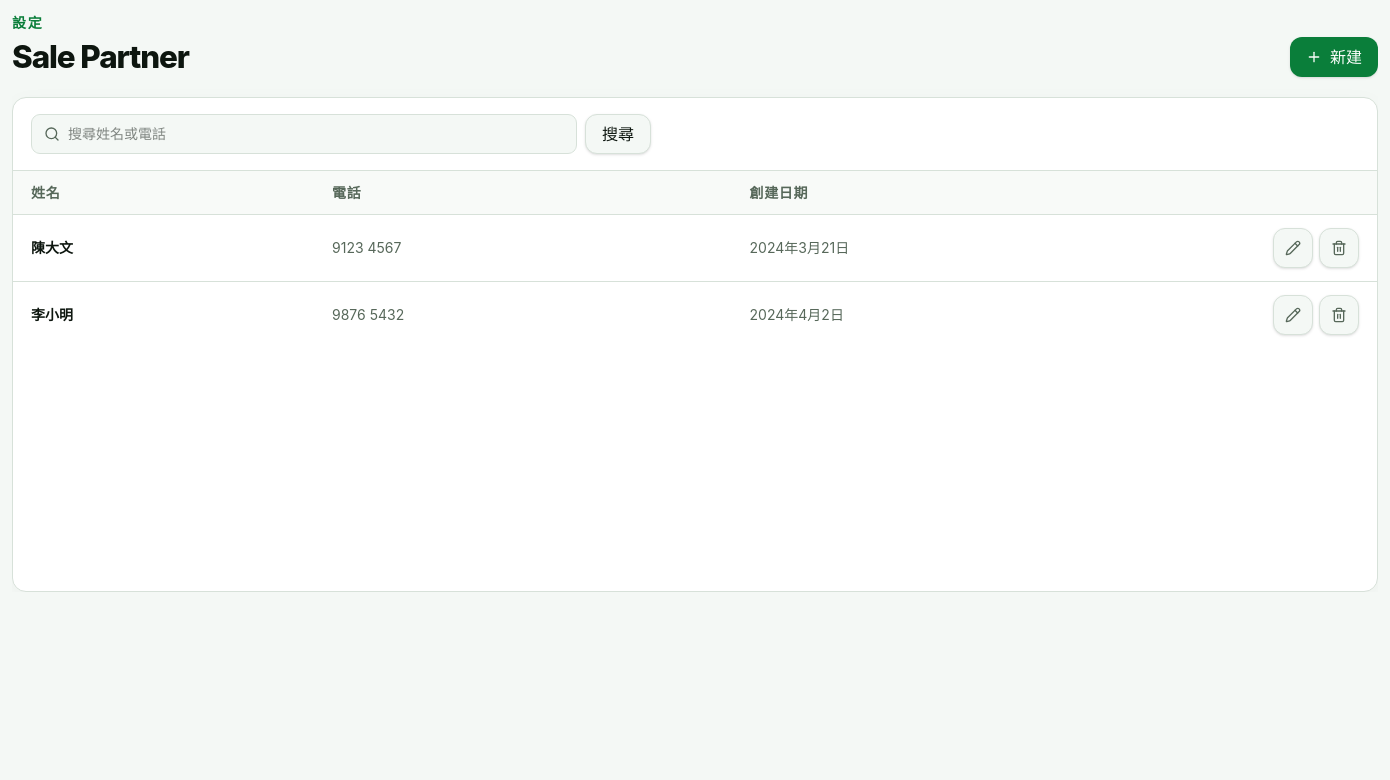
Test: Sale Partner page › lists partners and filters from the search bar
Expected: the heading "Sale Partner" is shown, [12,39,189,77]
Expected: the text "陳大文" is shown, [31,239,73,256]
In the search field with placeholder "搜尋姓名或電話": (316, 134) [68,115,564,153], type "李小明"
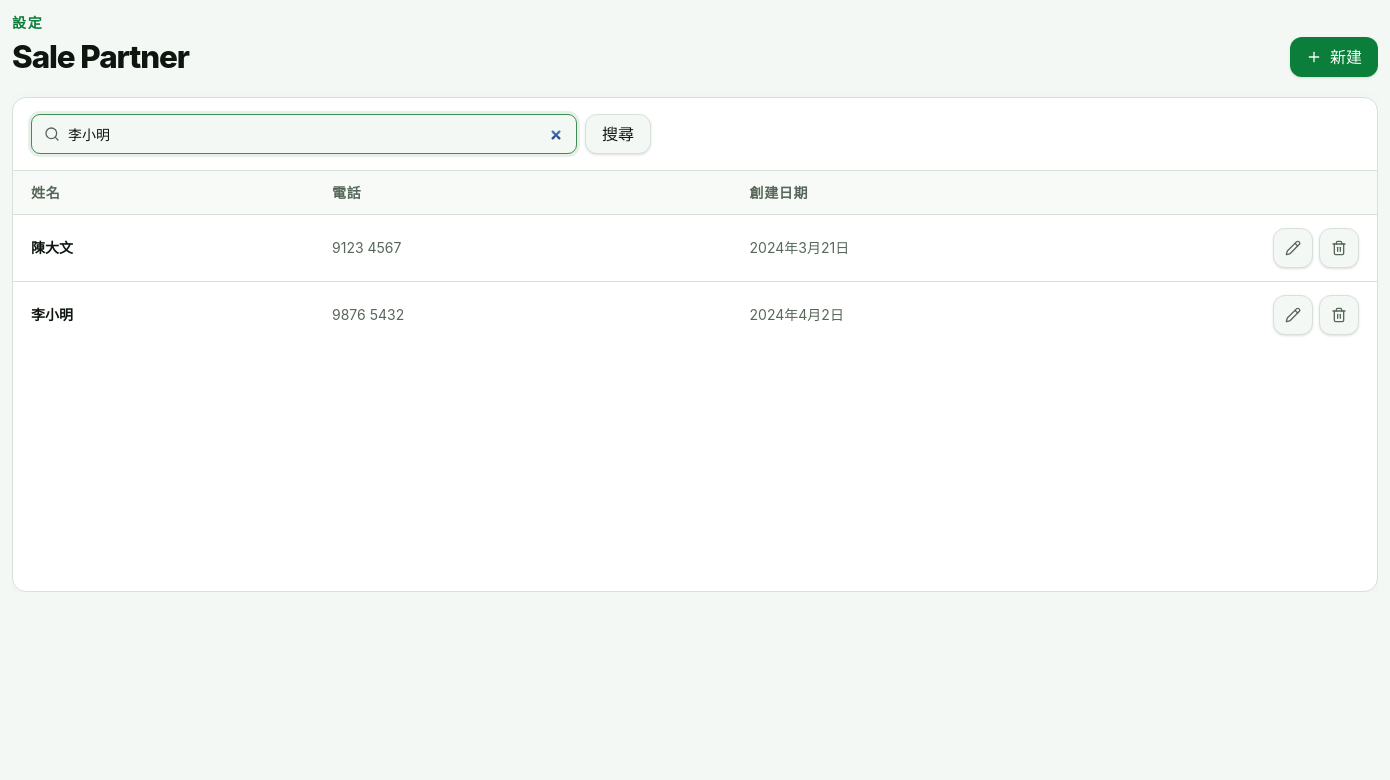
Click the button "搜尋": (618, 134) [585,114,651,154]
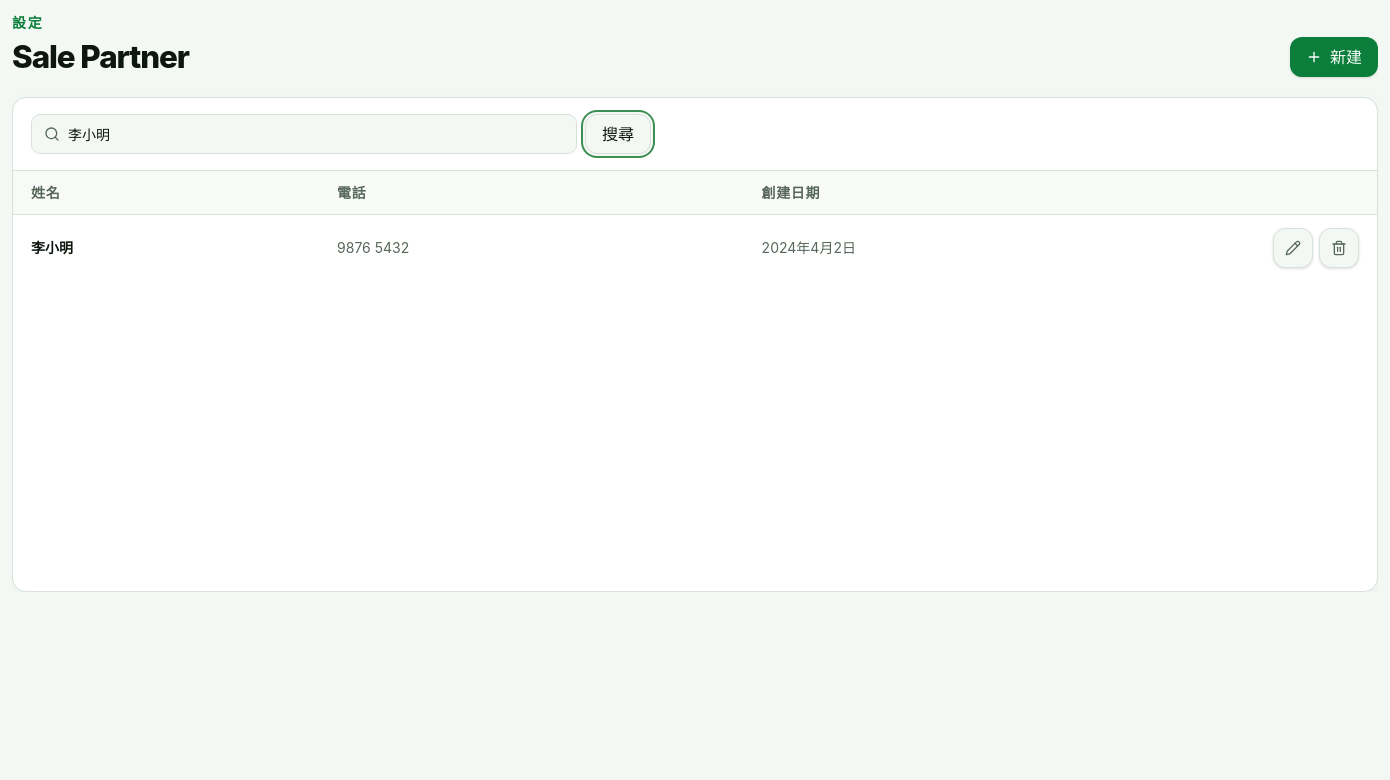
Expected: the text "李小明" is shown, [31,239,73,256]
Expected: the text "陳大文" is gone
